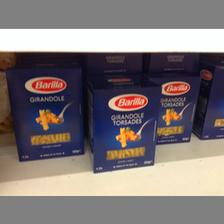Nudeln: (5, 62, 83, 162), (86, 75, 162, 173), (150, 72, 202, 144)
